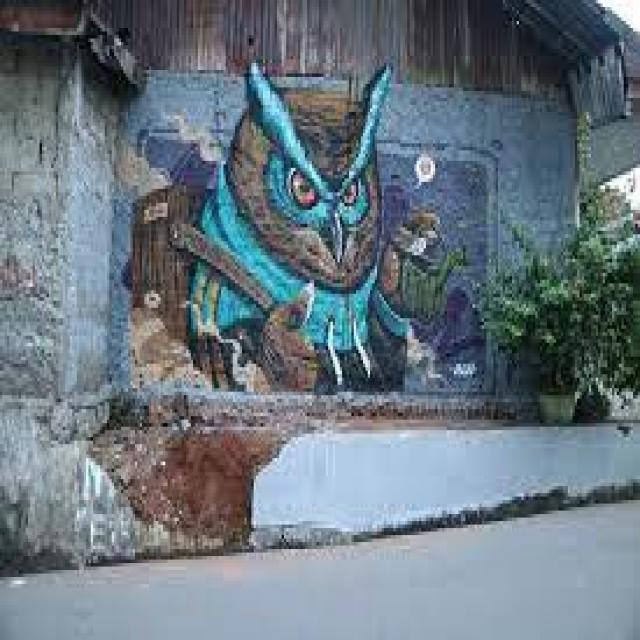-: (122, 62, 486, 395)
